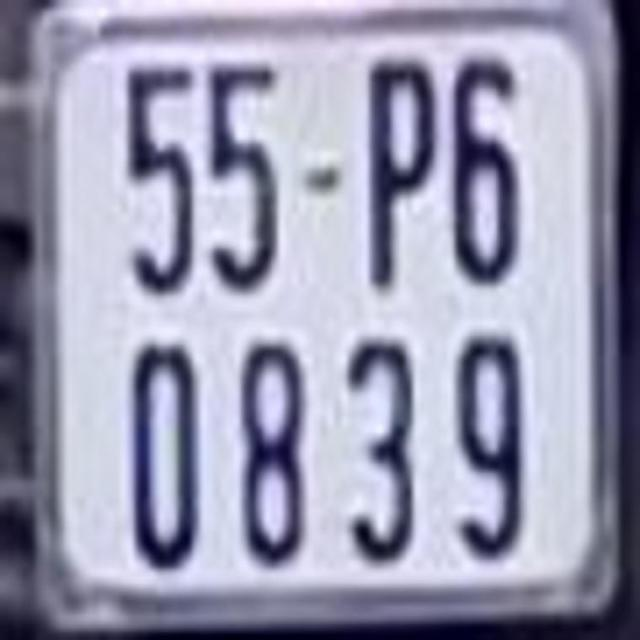0: (131, 342, 199, 569)
3: (346, 336, 416, 562)
5: (207, 61, 281, 290), (124, 62, 196, 294)
6: (451, 52, 522, 284)
8: (241, 342, 305, 566)
9: (454, 335, 523, 559)
P: (364, 58, 438, 292)
